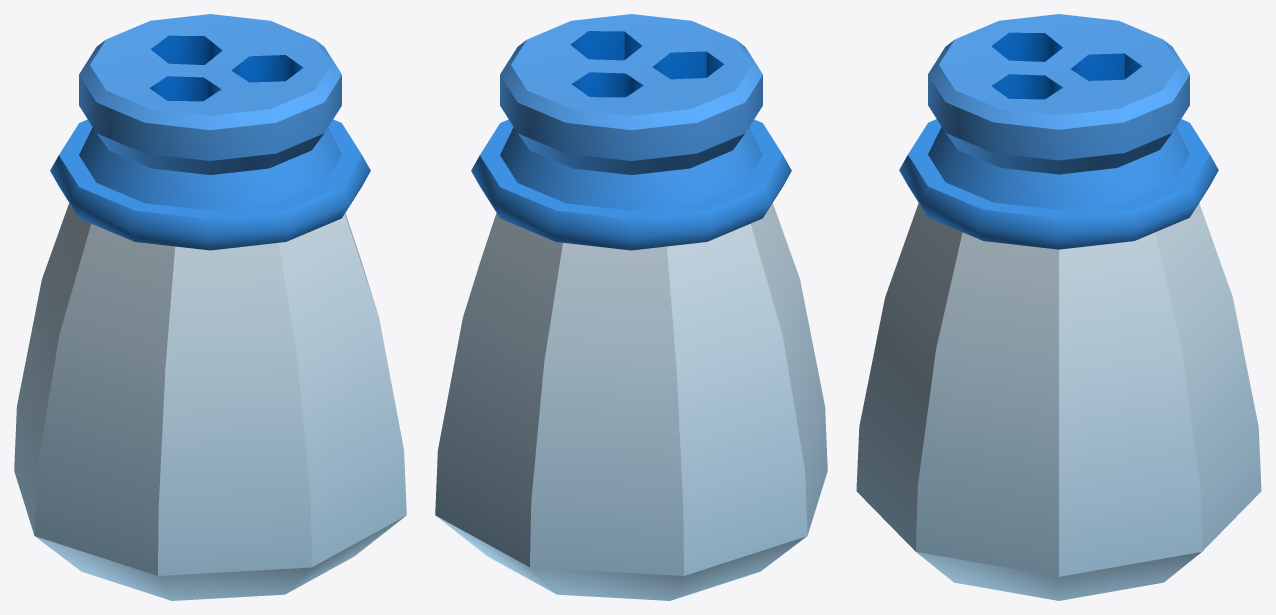
Rendered from Salt_Jar_01.fbx.
3 renders of one model, left to right at view 1: azimuth 30°, elevation 25°; view 2: azimuth 150°, elevation 25°; view 3: azimuth 270°, elevation 25°, orthographic.
Parts seen in each view (by area): view 1: Salt_Jar_01; view 2: Salt_Jar_01; view 3: Salt_Jar_01.
Boxes of the visible parts, <box> form: Salt_Jar_01: <box>14,14,406,600</box>; Salt_Jar_01: <box>435,14,827,600</box>; Salt_Jar_01: <box>856,14,1261,600</box>.
Size of the model in its own units: 19.09 by 24.63 by 19.09.
